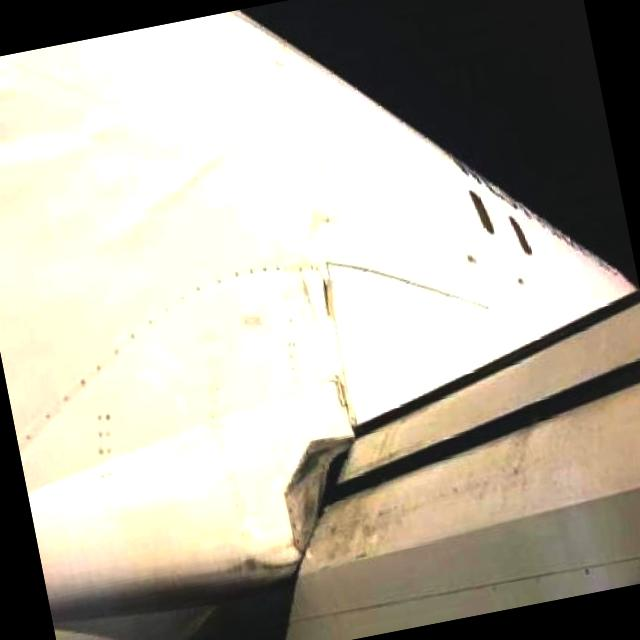dent: (0, 51, 62, 164)
